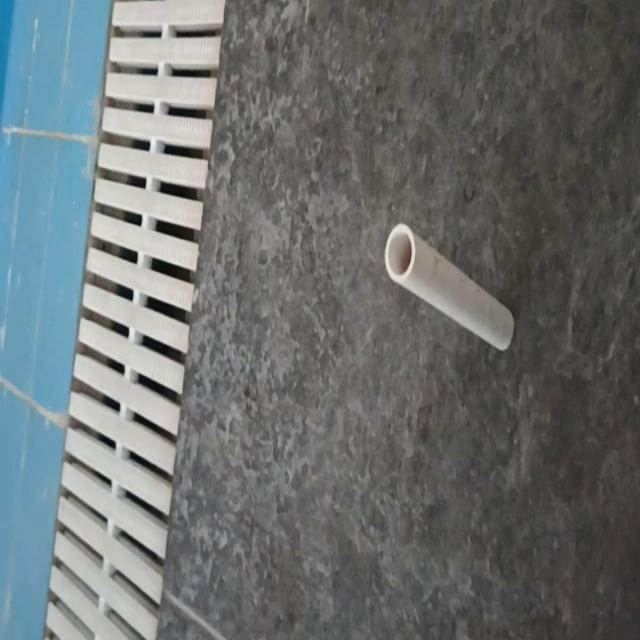Cube: (384, 220, 514, 353)
